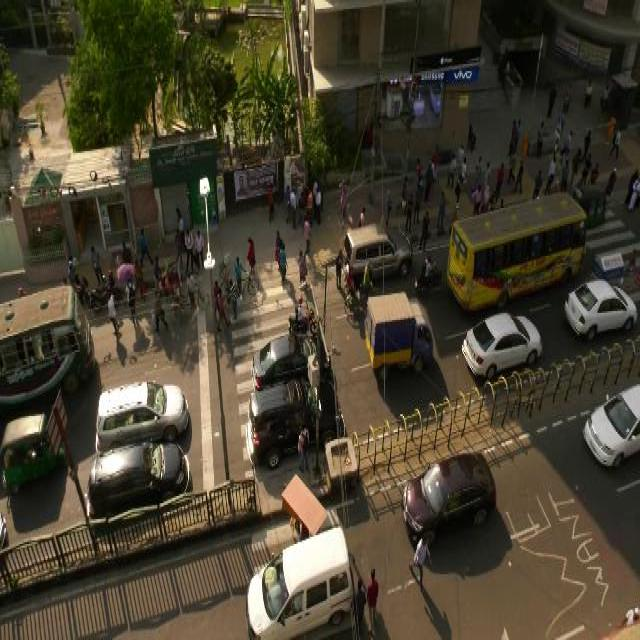10: (286, 305, 320, 335)
11: (360, 289, 436, 383)
13: (215, 260, 261, 312)
15: (336, 218, 412, 282)
17: (0, 403, 58, 504)
5: (399, 444, 498, 544), (81, 440, 195, 524), (91, 379, 193, 453), (580, 384, 638, 473), (458, 310, 514, 380)
9: (238, 520, 356, 639)
Truck: (444, 188, 586, 313), (1, 279, 97, 407)
